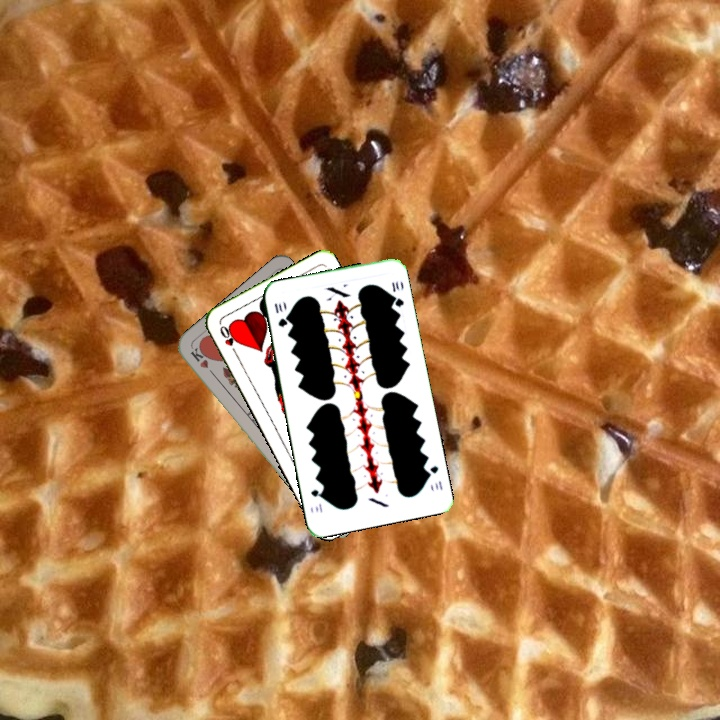G10: (422, 462, 445, 493), (270, 298, 290, 330)
HK: (187, 343, 218, 379)
HO: (215, 321, 240, 358)
